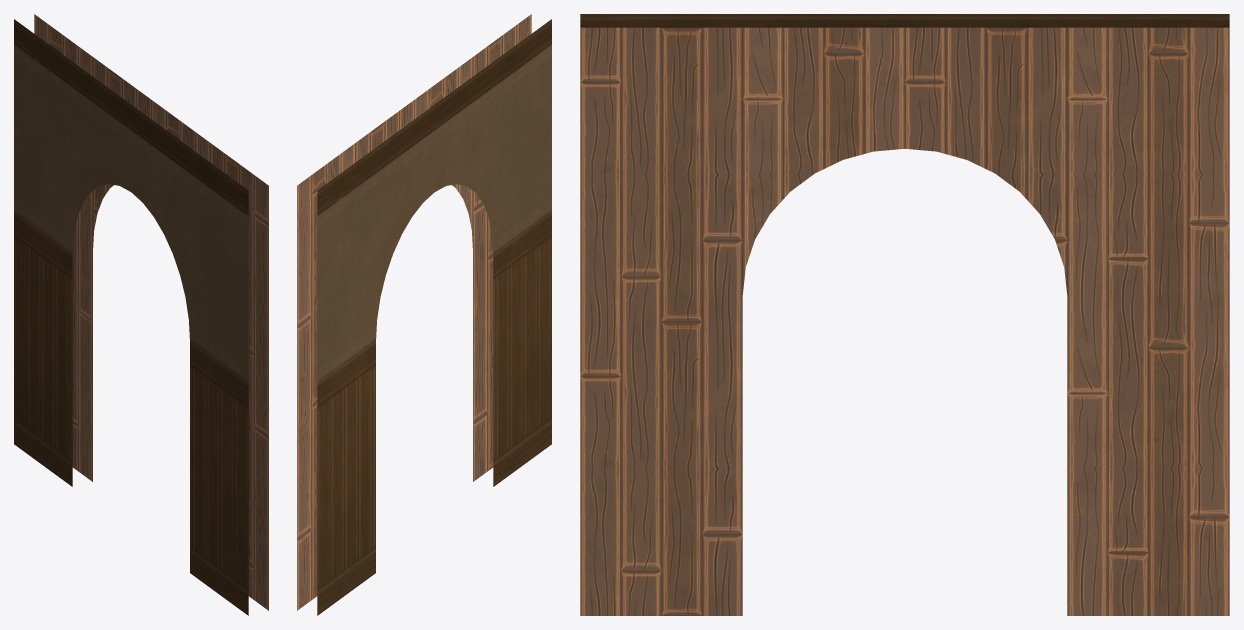
File: SM_Door_Wall_03.gltf
3 renders of one model, left to right at view 1: azimuth 30°, elevation 25°; view 2: azimuth 150°, elevation 25°; view 3: azimuth 270°, elevation 25°, orthographic. The views are drawn at different scales.
Parts seen in each view (by area): view 1: SM_Door_Wall_03; view 2: SM_Door_Wall_03; view 3: SM_Door_Wall_03.
Part boxes in pixels (x1,y1,x2,y2): SM_Door_Wall_03: [14, 14, 268, 615]; SM_Door_Wall_03: [297, 14, 551, 615]; SM_Door_Wall_03: [580, 14, 1229, 615].
Size of the model in its own units: 0.2 by 4 by 4.
2 materials, 2 textured.
